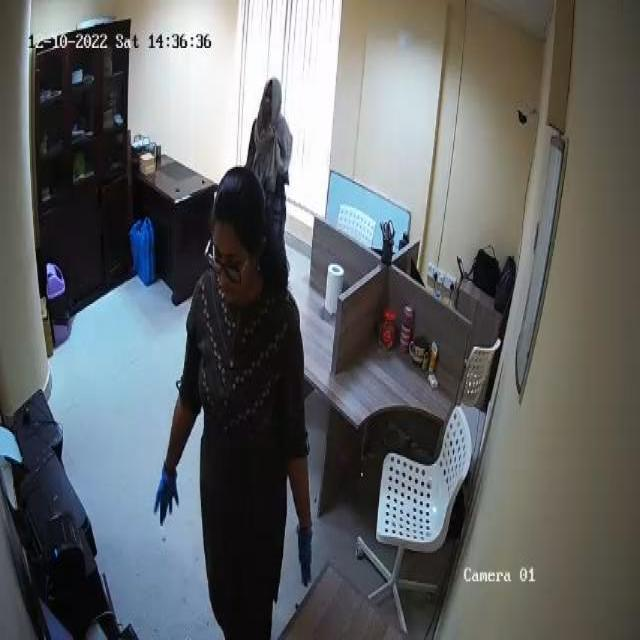gloved_hand: (152, 455, 182, 537), (292, 514, 318, 592)
